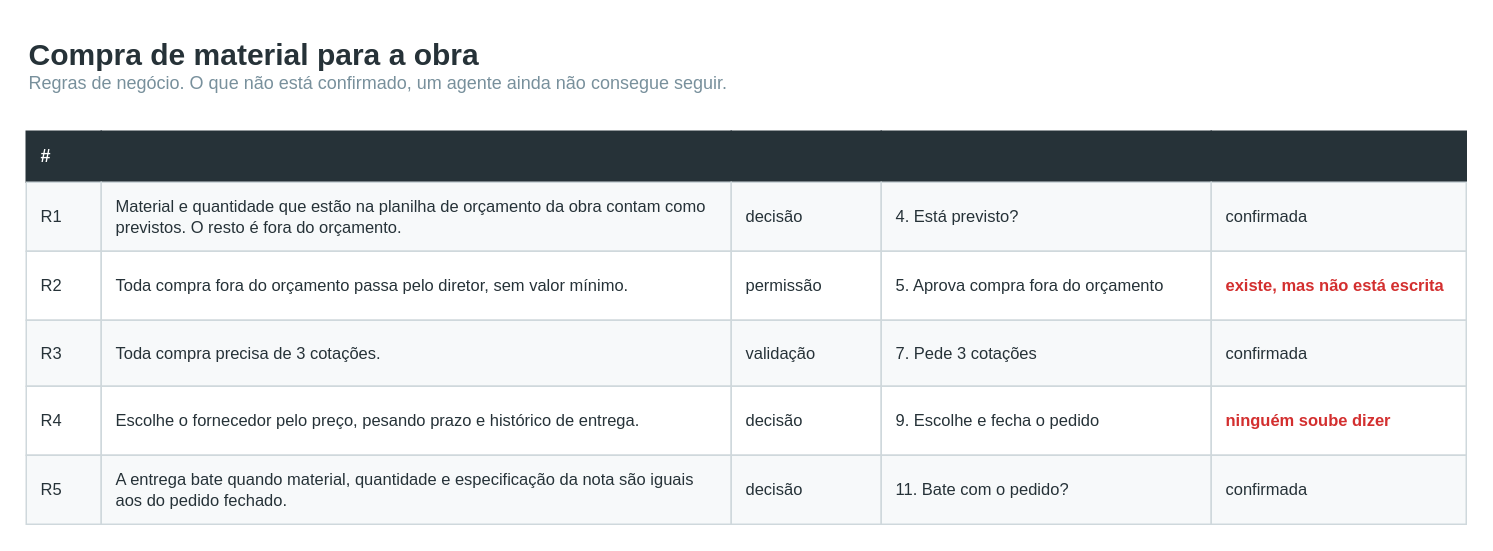
The diagram is 1493 pixels wide and 551 high, and some of its shapes have lost their labels. The shapes that lost their labels are listed below. From the top down, each one's box as (x1, y1, x2, y2) in pixels, then its label:
(100, 130, 731, 182): Regra
(730, 130, 881, 182): Tipo
(880, 130, 1211, 182): Onde vale
(1210, 130, 1466, 182): Situação
